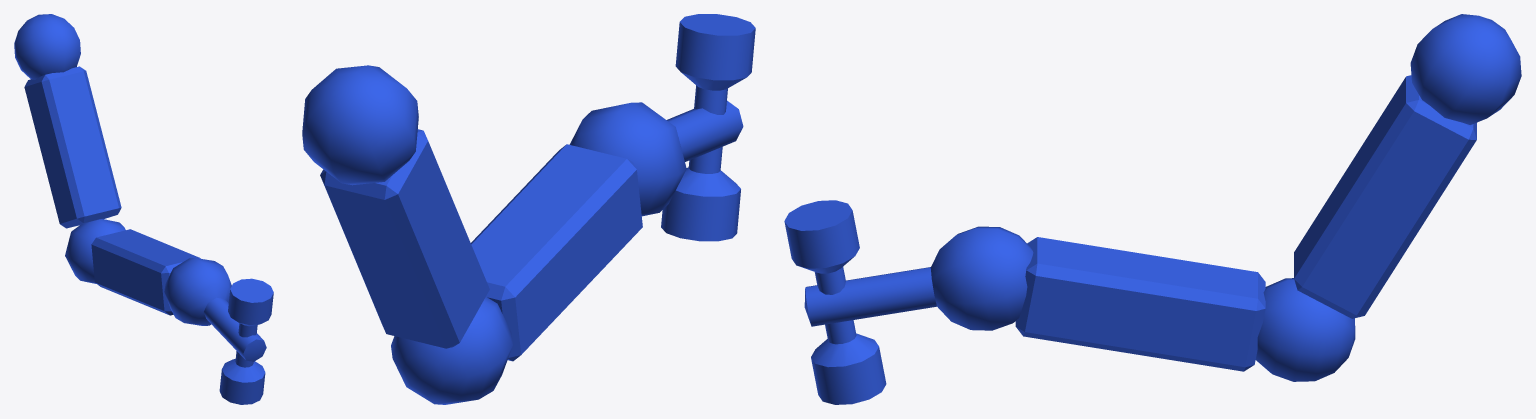
The model's file is ggj_project_bot_arm_001.fbx.
3 views of the same model, side by side, from view 1: azimuth 30°, elevation 25°; view 2: azimuth 150°, elevation 25°; view 3: azimuth 270°, elevation 25° (orthographic). The views are drawn at different scales.
Visible parts, largest first — view 1: Sphere.001, Sphere.002, Sphere; view 2: Sphere.001, Sphere, Sphere.002; view 3: Sphere, Sphere.001, Sphere.002.
Boxes of the visible parts, x1,y1,x2,y2 form: Sphere.001: (14, 14, 121, 228); Sphere.002: (164, 258, 273, 404); Sphere: (65, 219, 200, 315); Sphere.001: (302, 65, 489, 348); Sphere: (391, 144, 642, 404); Sphere.002: (569, 14, 755, 241); Sphere: (1015, 237, 1355, 381); Sphere.001: (1294, 14, 1521, 318); Sphere.002: (784, 200, 1033, 404).
Size of the model in its own units: 23.92 by 88.55 by 157.
